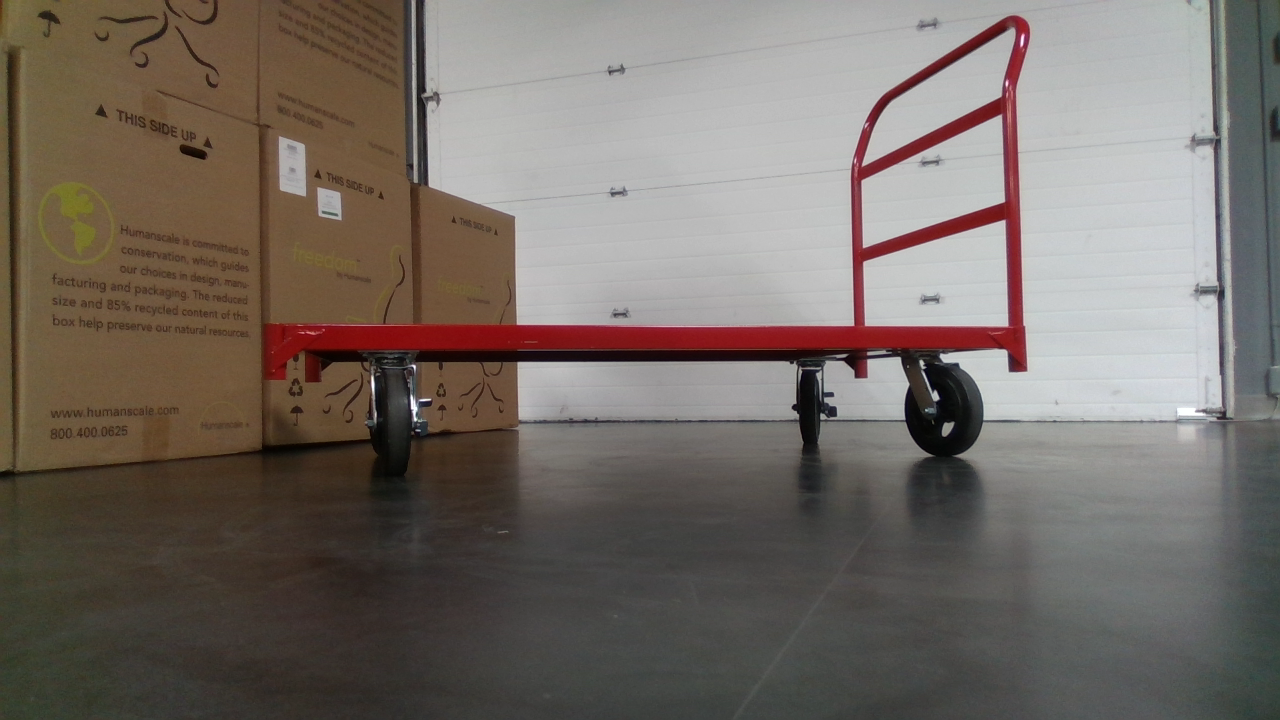Dolly: (257, 0, 1035, 480)
Wheel: (897, 355, 989, 461), (358, 358, 431, 484), (786, 354, 841, 457)
